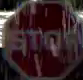Stop: (4, 2, 82, 76)
